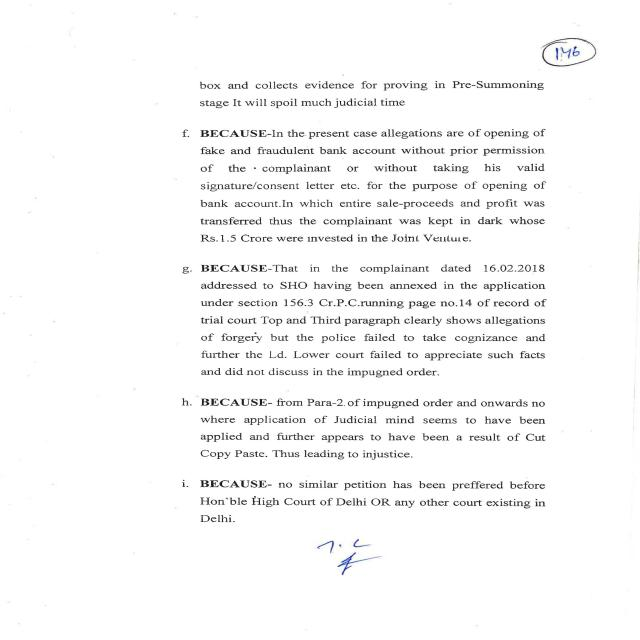page-number: (395, 2, 638, 76)
